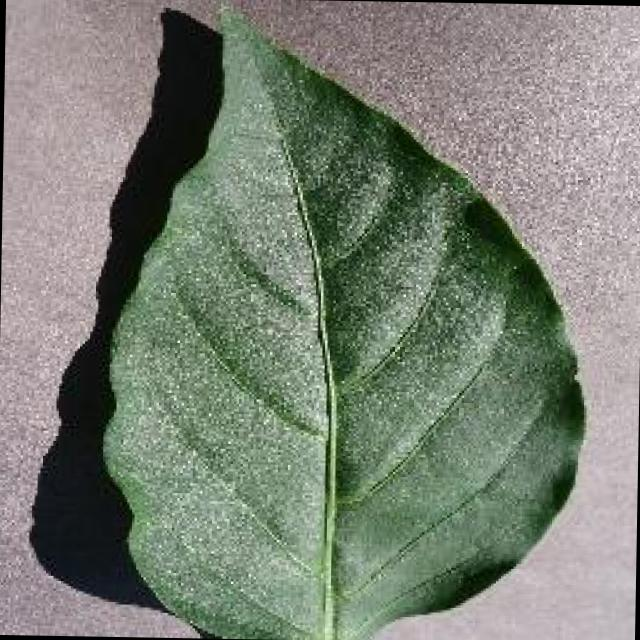Chilli_Healthy: (94, 0, 593, 640)
